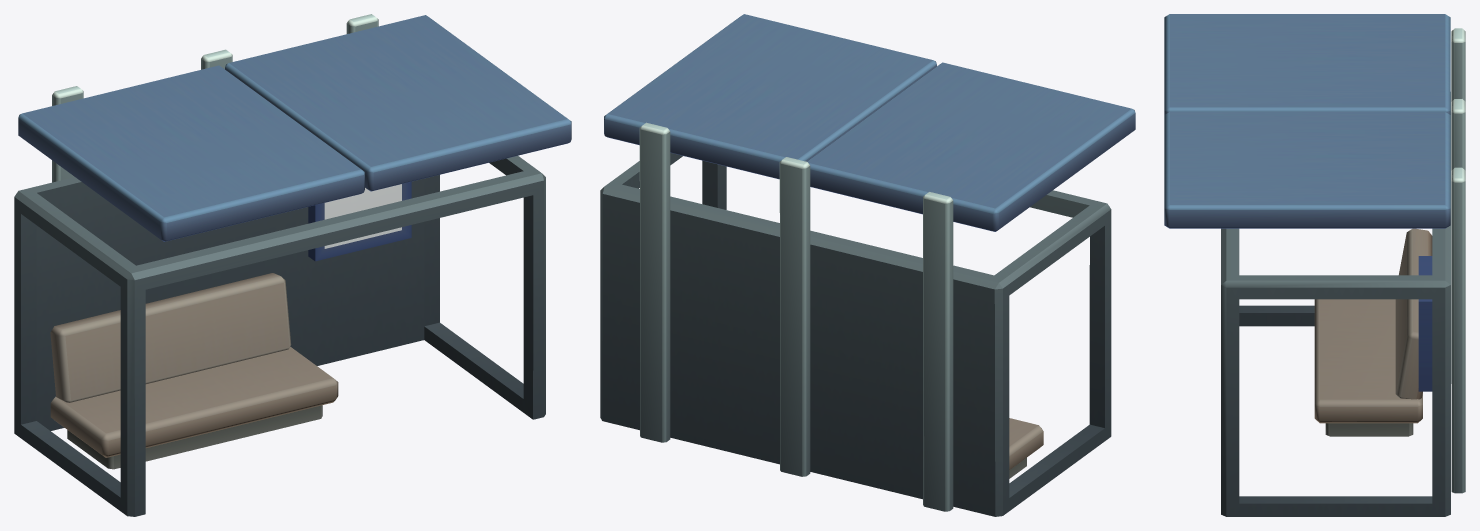
File: bus_stop.fbx
3 views of the same model, side by side, from view 1: azimuth 30°, elevation 25°; view 2: azimuth 150°, elevation 25°; view 3: azimuth 270°, elevation 25° (orthographic). The views are drawn at different scales.
Parts seen in each view (by area): view 1: bus_stop; view 2: bus_stop; view 3: bus_stop.
Part boxes in pixels (x1,y1,x2,y2): bus_stop: (14, 14, 571, 516); bus_stop: (600, 14, 1135, 516); bus_stop: (1164, 14, 1465, 516).
Bounding box in the file's own units: 357 × 263 × 229.
